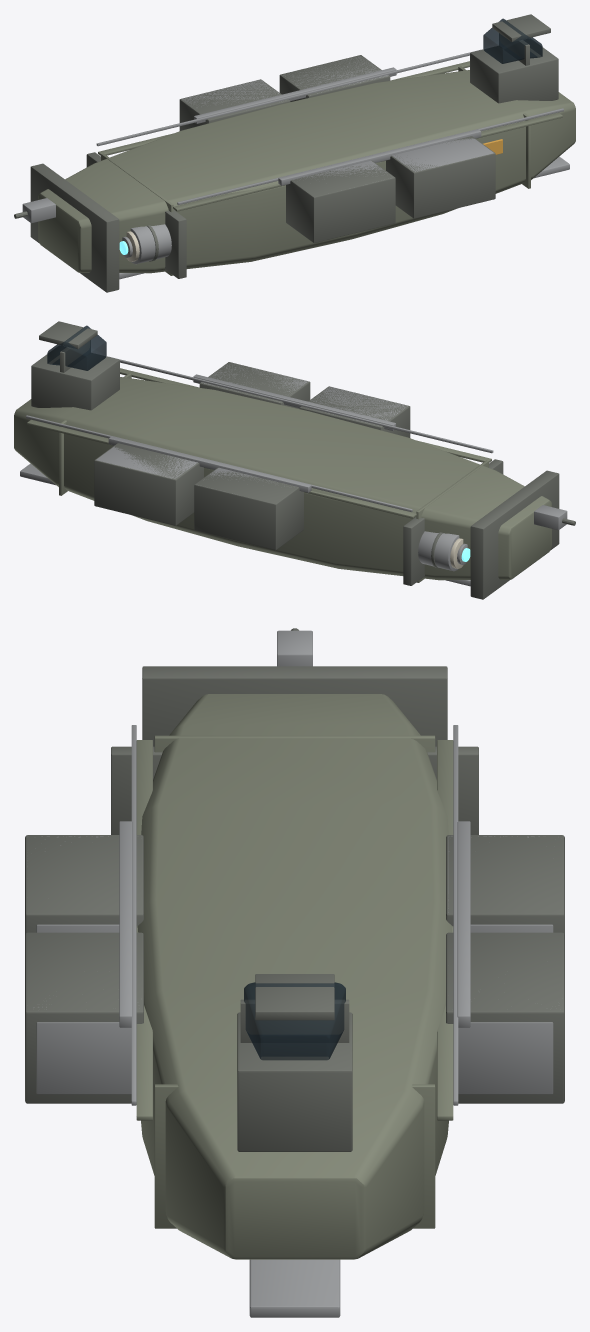
The model's file is mule_production_v1_lod2.glb.
3 renders of one model, top to bottom at view 1: azimuth 30°, elevation 25°; view 2: azimuth 150°, elevation 25°; view 3: azimuth 270°, elevation 25°, orthographic. The views are drawn at different scales.
Parts seen in each view (by area): view 1: LOD2_Hull, LOD2_Armor, LOD2_Mechanical, LOD2_Canopy; view 2: LOD2_Hull, LOD2_Armor, LOD2_Mechanical, LOD2_Canopy; view 3: LOD2_Hull, LOD2_Armor, LOD2_Mechanical, LOD2_Canopy.
Part boxes in pixels (bbox=[...]): LOD2_Hull: bbox=[38, 61, 575, 275]; LOD2_Armor: bbox=[14, 14, 558, 292]; LOD2_Mechanical: bbox=[22, 49, 569, 279]; LOD2_Canopy: bbox=[483, 18, 542, 63]; LOD2_Hull: bbox=[14, 368, 551, 582]; LOD2_Armor: bbox=[31, 321, 575, 599]; LOD2_Mechanical: bbox=[20, 356, 567, 586]; LOD2_Canopy: bbox=[47, 325, 106, 370]; LOD2_Hull: bbox=[136, 694, 453, 1259]; LOD2_Armor: bbox=[25, 628, 564, 1151]; LOD2_Mechanical: bbox=[27, 630, 553, 1317]; LOD2_Canopy: bbox=[244, 982, 345, 1060].
Size of what is drawn, in the model's own units: 15.23 by 3.9 by 6.54.
